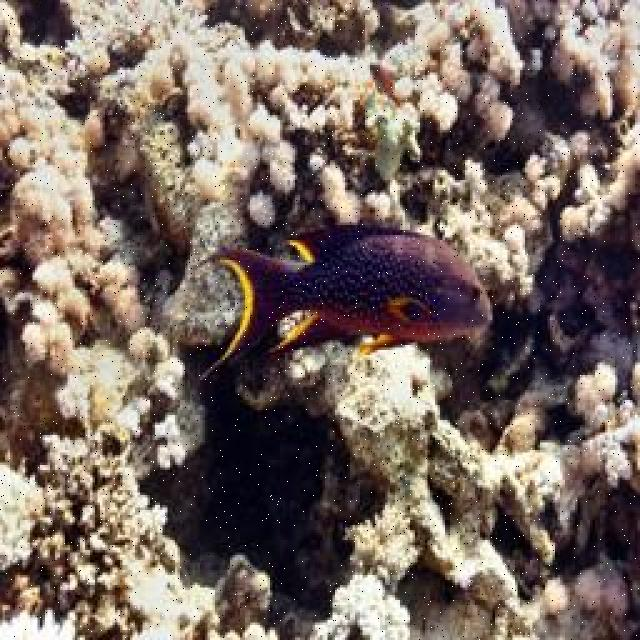fish: (207, 225, 495, 378)
